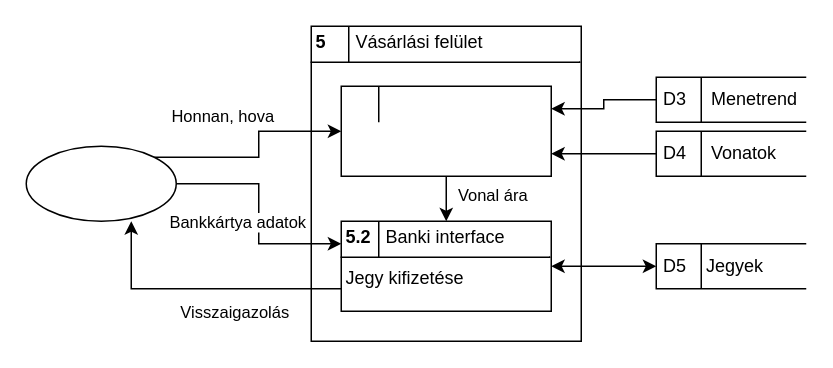
The diagram is 833 pixels wide and 368 high, and some of its shapes have lost their labels. The box of each missing label's shape, as (x1, y1, x2, y2) in pixels:
5.1 Vonal választó lap Vonalszám kiválasztása: (340, 85, 551, 176)
Tag: (25, 145, 176, 221)
